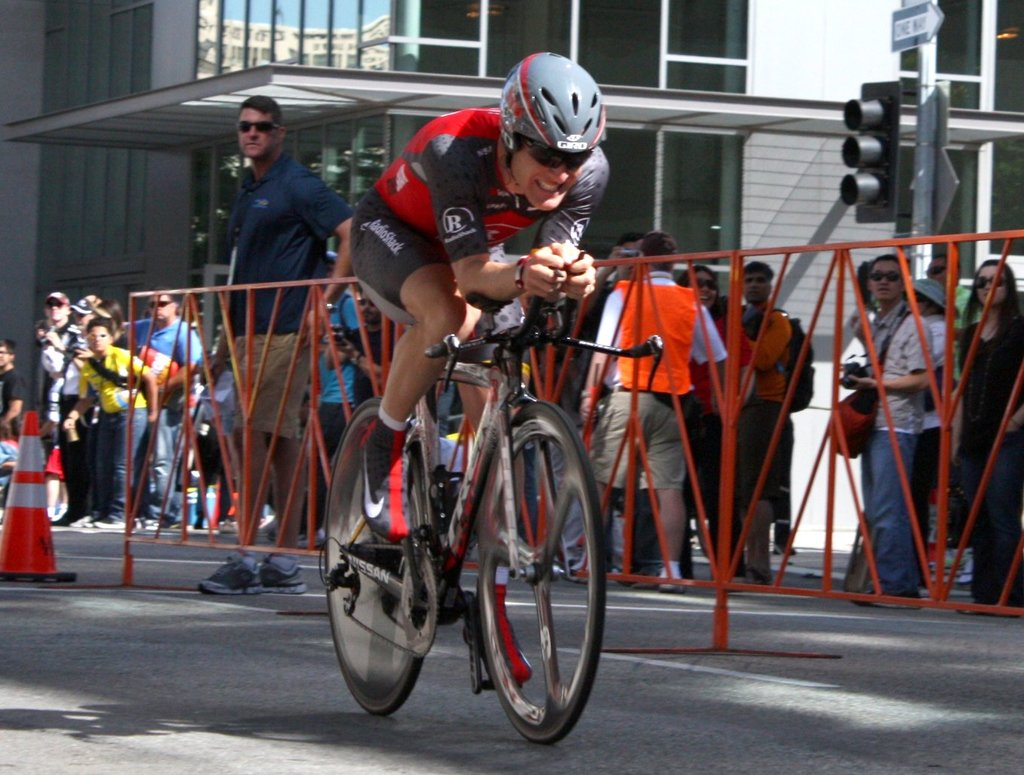Bike_toward: (327, 276, 664, 743)
